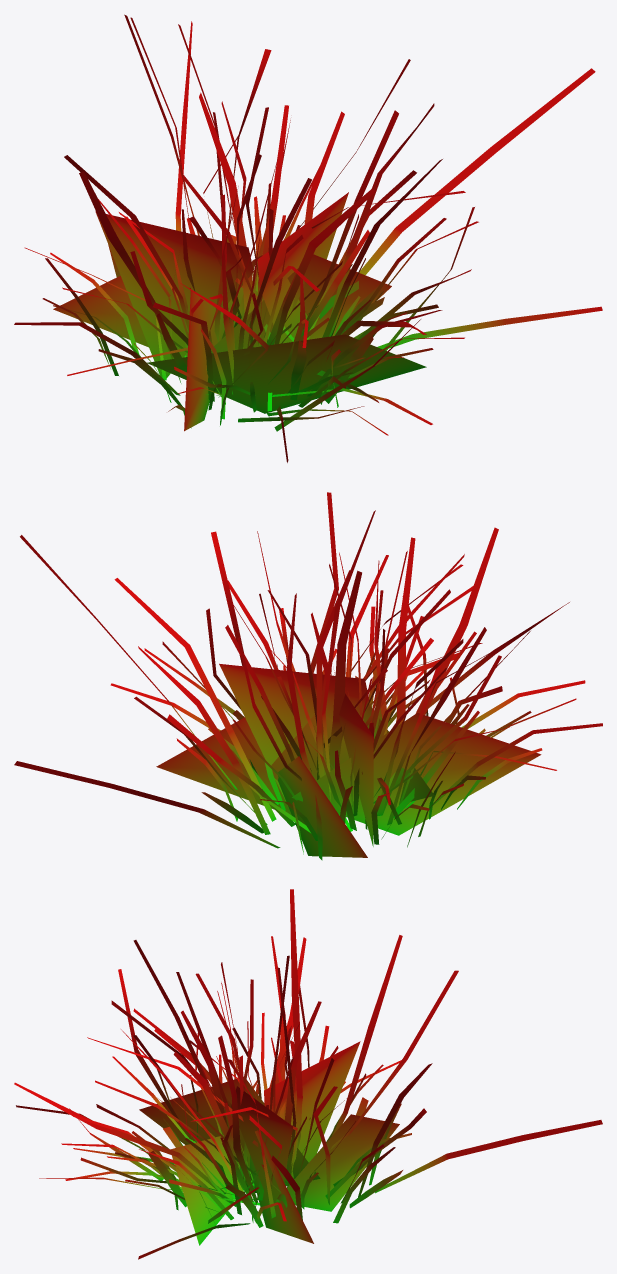
The model's file is Tundra Grass_LOD3_Var2_wk2oaeyqx.fbx.
3 views of the same model, one above another, from view 1: azimuth 30°, elevation 25°; view 2: azimuth 150°, elevation 25°; view 3: azimuth 270°, elevation 25° (orthographic). The views are drawn at different scales.
Parts seen in each view (by area): view 1: _uxbu_Var2_LOD3; view 2: _uxbu_Var2_LOD3; view 3: _uxbu_Var2_LOD3.
Part boxes in pixels (x1,y1,x2,y2): _uxbu_Var2_LOD3: (14, 14, 602, 462); _uxbu_Var2_LOD3: (14, 492, 602, 860); _uxbu_Var2_LOD3: (14, 889, 602, 1259).
Size of the model in its own units: 41.54 by 24.43 by 42.72.
